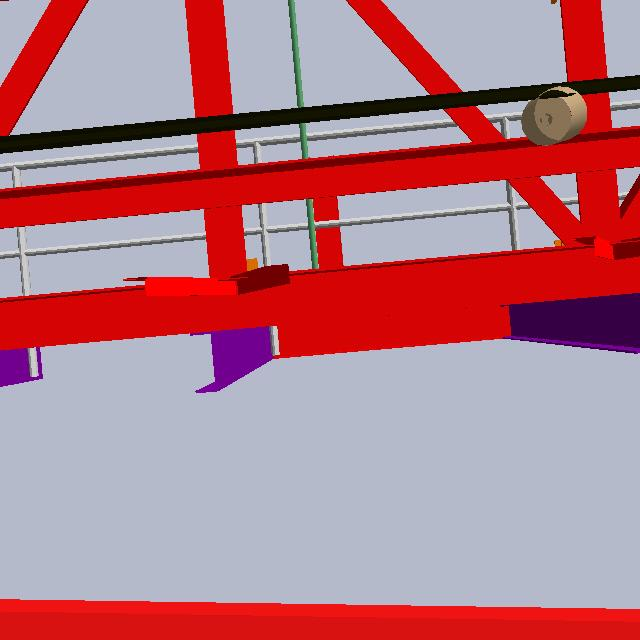Poste: (281, 1, 321, 292)
Soporte: (298, 153, 347, 301)
